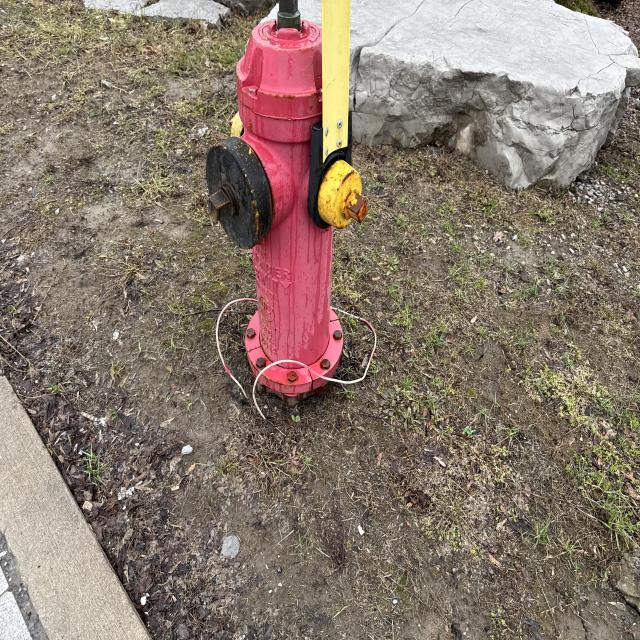Fire hydrant: (205, 0, 369, 399)
